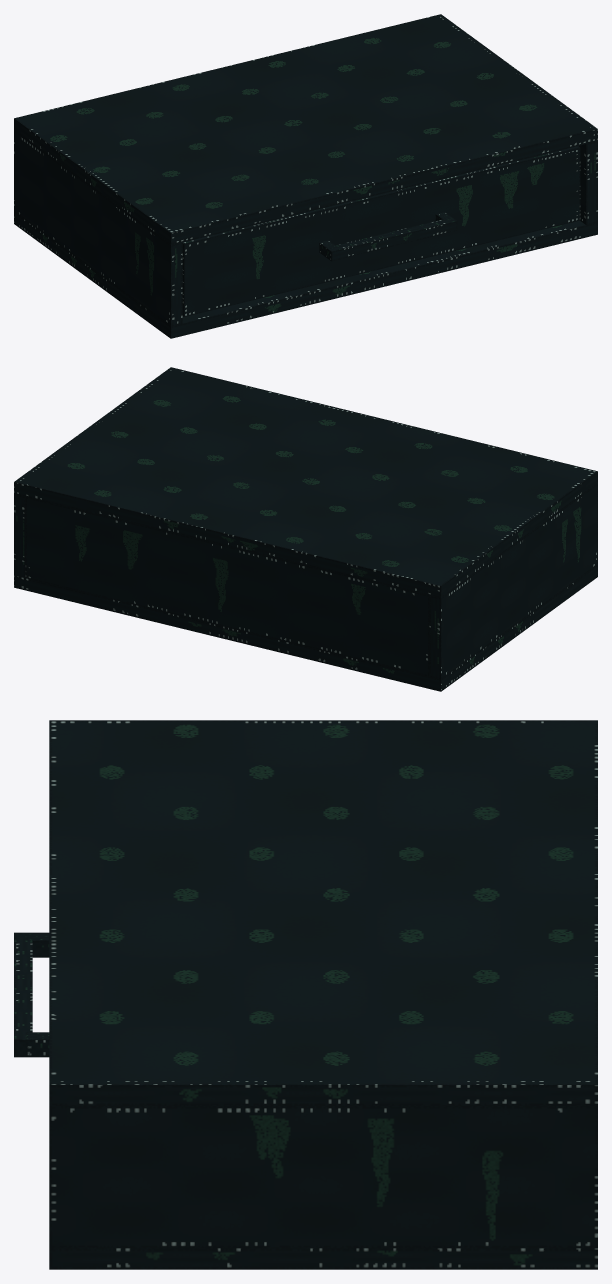
Rendered from SM_Hub_Workbench_Drawer.glb.
The picture shows the model from 3 angles, top to bottom: view 1: azimuth 30°, elevation 25°; view 2: azimuth 150°, elevation 25°; view 3: azimuth 270°, elevation 25°; orthographic projection. The views are drawn at different scales.
Visible parts, largest first — view 1: SM_Hub_Workbench_Drawer_Casing, SM_Hub_Workbench_Drawer_Tray; view 2: SM_Hub_Workbench_Drawer_Casing; view 3: SM_Hub_Workbench_Drawer_Casing, SM_Hub_Workbench_Drawer_Tray.
Part boxes in pixels (x1,y1,x2,y2): SM_Hub_Workbench_Drawer_Casing: [14, 14, 597, 338]; SM_Hub_Workbench_Drawer_Tray: [182, 146, 580, 316]; SM_Hub_Workbench_Drawer_Casing: [14, 367, 597, 691]; SM_Hub_Workbench_Drawer_Casing: [49, 720, 597, 1269]; SM_Hub_Workbench_Drawer_Tray: [14, 932, 49, 1057].
Bounding box in the file's own units: 1.1 × 0.26 × 0.745.
2 materials, 2 textured.
